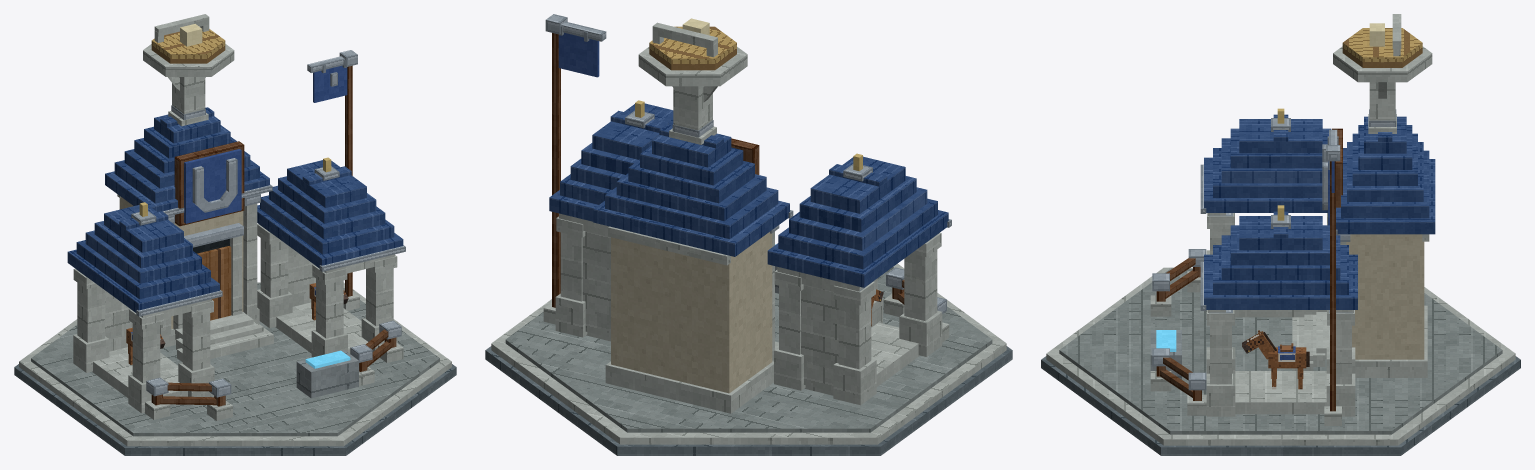
Rendered from cavalry_mastery_hex_v1.glb.
3 renders of one model, left to right at view 1: azimuth 30°, elevation 25°; view 2: azimuth 150°, elevation 25°; view 3: azimuth 270°, elevation 25°, orthographic. The views are drawn at different scales.
Visible parts, largest first — view 1: Cavalry_Mastery_Hex_V1_Foundation, Cavalry_Mastery_Hex_V1_Roofs, Cavalry_Mastery_Hex_V1_Hall, Cavalry_Mastery_Hex_V1_Faction, Cavalry_Mastery_Hex_V1_Courtyard, Cavalry_Mastery_Hex_V1_Focus, Cavalry_Mastery_Hex_V1_Training, Cavalry_Mastery_Hex_V1_Details; view 2: Cavalry_Mastery_Hex_V1_Hall, Cavalry_Mastery_Hex_V1_Roofs, Cavalry_Mastery_Hex_V1_Foundation, Cavalry_Mastery_Hex_V1_Focus, Cavalry_Mastery_Hex_V1_Faction, Cavalry_Mastery_Hex_V1_Details, Cavalry_Mastery_Hex_V1_Courtyard; view 3: Cavalry_Mastery_Hex_V1_Foundation, Cavalry_Mastery_Hex_V1_Roofs, Cavalry_Mastery_Hex_V1_Hall, Cavalry_Mastery_Hex_V1_Focus, Cavalry_Mastery_Hex_V1_Courtyard, Cavalry_Mastery_Hex_V1_Faction, Cavalry_Mastery_Hex_V1_Training.
Part boxes in pixels (x1,y1,x2,y2): Cavalry_Mastery_Hex_V1_Foundation: (14, 282, 456, 455); Cavalry_Mastery_Hex_V1_Roofs: (67, 107, 405, 316); Cavalry_Mastery_Hex_V1_Hall: (73, 197, 397, 413); Cavalry_Mastery_Hex_V1_Faction: (174, 50, 359, 310); Cavalry_Mastery_Hex_V1_Courtyard: (144, 312, 403, 420); Cavalry_Mastery_Hex_V1_Focus: (126, 14, 348, 364); Cavalry_Mastery_Hex_V1_Training: (296, 350, 358, 398); Cavalry_Mastery_Hex_V1_Details: (117, 194, 260, 336); Cavalry_Mastery_Hex_V1_Hall: (555, 213, 942, 413); Cavalry_Mastery_Hex_V1_Roofs: (549, 100, 951, 287); Cavalry_Mastery_Hex_V1_Foundation: (485, 263, 1012, 455); Cavalry_Mastery_Hex_V1_Focus: (638, 18, 883, 326); Cavalry_Mastery_Hex_V1_Faction: (543, 14, 759, 324); Cavalry_Mastery_Hex_V1_Details: (608, 225, 779, 360); Cavalry_Mastery_Hex_V1_Courtyard: (775, 267, 949, 349); Cavalry_Mastery_Hex_V1_Foundation: (1041, 267, 1520, 455); Cavalry_Mastery_Hex_V1_Roofs: (1200, 108, 1435, 310); Cavalry_Mastery_Hex_V1_Hall: (1206, 213, 1427, 416); Cavalry_Mastery_Hex_V1_Focus: (1242, 14, 1432, 389); Cavalry_Mastery_Hex_V1_Courtyard: (1150, 249, 1329, 415); Cavalry_Mastery_Hex_V1_Faction: (1322, 128, 1342, 425); Cavalry_Mastery_Hex_V1_Training: (1150, 330, 1181, 379).
Size of the model in its own units: 1.59 by 1.44 by 1.84.
1 material, 1 textured.
